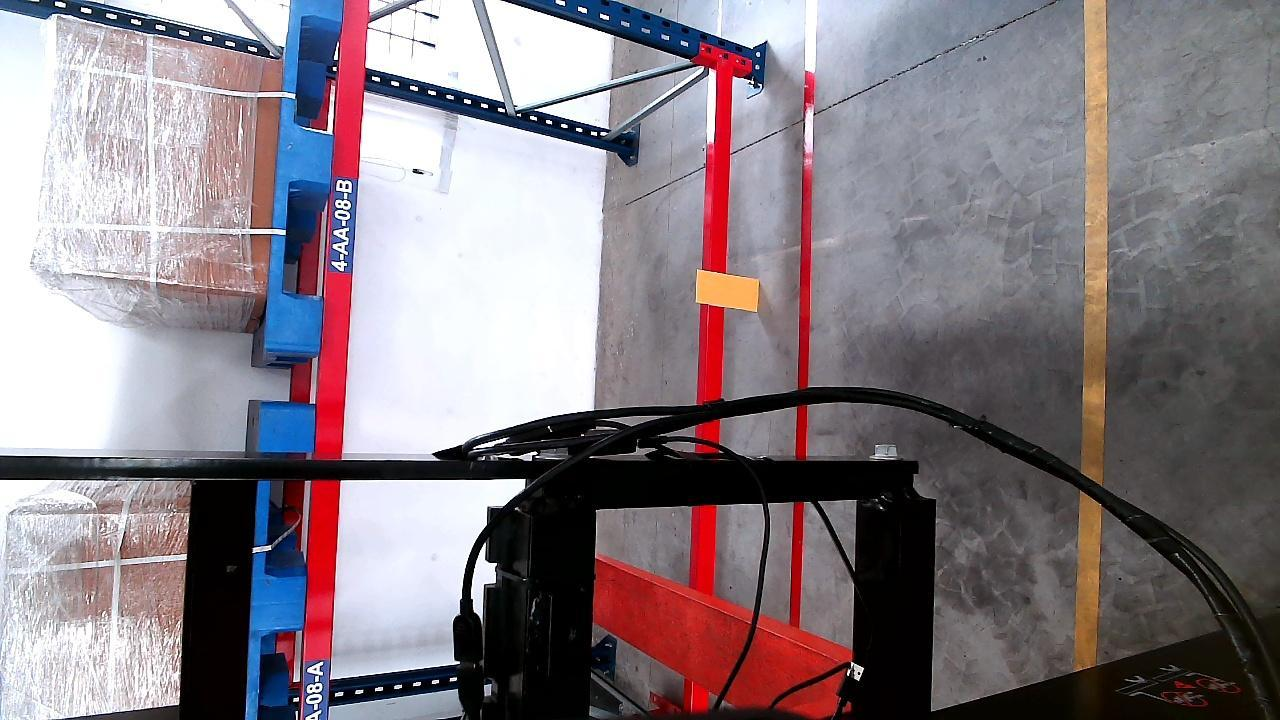red_line: (788, 0, 816, 628)
yellow_line: (1078, 0, 1108, 674)
